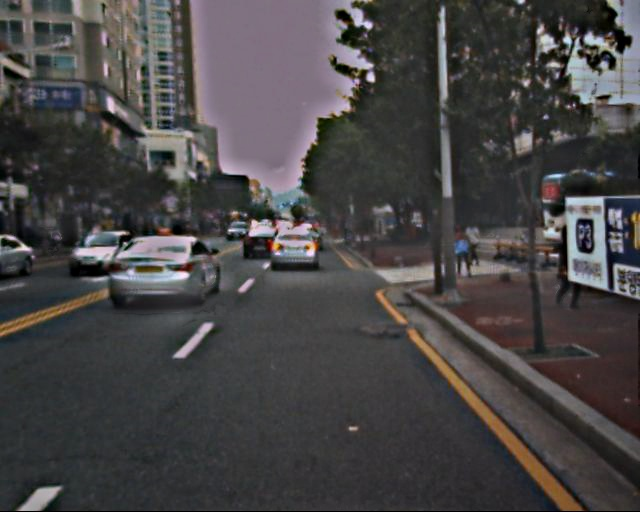person: (554, 233, 588, 315), (452, 225, 475, 281), (464, 220, 484, 268)
